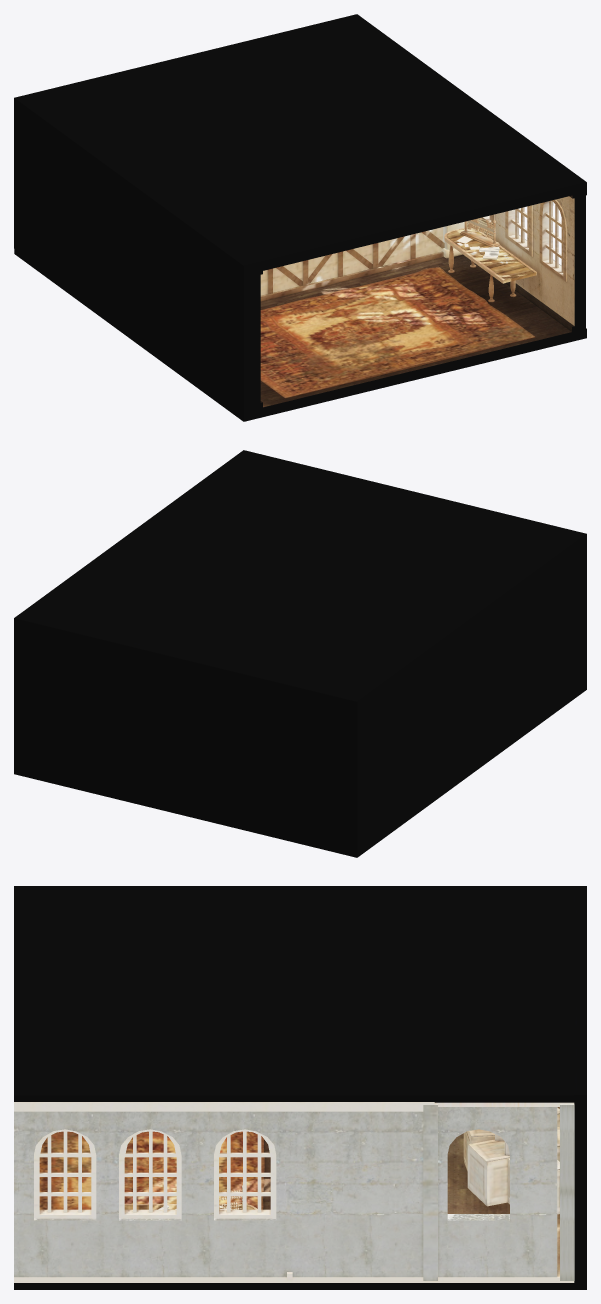
The model's file is room.glb.
3 renders of one model, top to bottom at view 1: azimuth 30°, elevation 25°; view 2: azimuth 150°, elevation 25°; view 3: azimuth 270°, elevation 25°, orthographic. The views are drawn at different scales.
Visible parts, largest first — view 1: Object_21, Object_18, Object_9, Object_17, Object_11, Object_4, Object_12, Object_5, Object_7, Object_3, Object_2; view 2: Object_21, Object_12, Object_18, Object_17; view 3: Object_21, Object_11, Object_18, Object_9, Object_3, Object_17, Object_13, Object_5, Object_7.
Part boxes in pixels (x1=…): Object_21: x1=14, y1=18, x2=586, y2=421; Object_18: x1=22, y1=14, x2=534, y2=397; Object_9: x1=251, y1=188, x2=586, y2=412; Object_17: x1=14, y1=98, x2=535, y2=398; Object_11: x1=467, y1=196, x2=574, y2=325; Object_4: x1=243, y1=199, x2=586, y2=421; Object_12: x1=260, y1=230, x2=444, y2=397; Object_5: x1=444, y1=208, x2=561, y2=280; Object_7: x1=445, y1=201, x2=563, y2=302; Object_3: x1=444, y1=200, x2=565, y2=301; Object_2: x1=457, y1=201, x2=563, y2=272; Object_21: x1=14, y1=450, x2=586, y2=857; Object_12: x1=14, y1=618, x2=357, y2=852; Object_18: x1=14, y1=614, x2=361, y2=701; Object_17: x1=357, y1=698, x2=362, y2=852; Object_21: x1=14, y1=886, x2=586, y2=1289; Object_11: x1=14, y1=1104, x2=574, y2=1280; Object_18: x1=39, y1=886, x2=586, y2=1273; Object_9: x1=14, y1=1102, x2=574, y2=1282; Object_3: x1=34, y1=1129, x2=250, y2=1218; Object_17: x1=423, y1=1105, x2=559, y2=1280; Object_13: x1=263, y1=1095, x2=586, y2=1281; Object_5: x1=39, y1=1152, x2=257, y2=1209; Object_7: x1=39, y1=1185, x2=242, y2=1214.
Size of the model in its own units: 6.37 by 2.75 by 7.34.
Materials: 5 (5 with a texture image).
